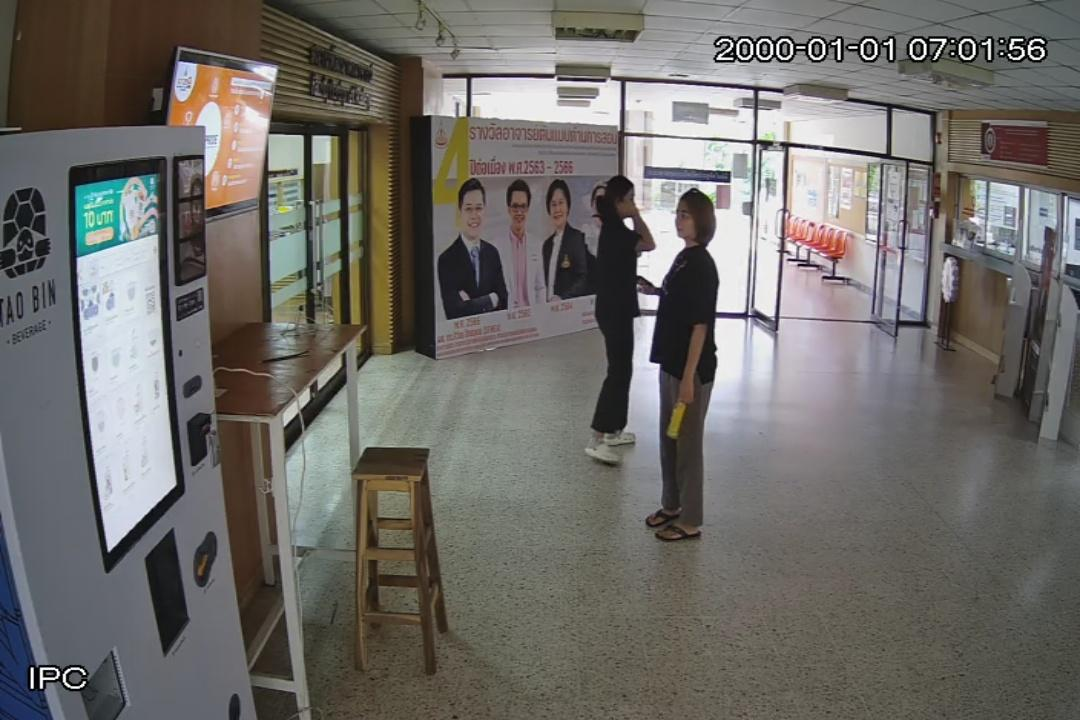normal: (644, 182, 720, 552), (586, 170, 656, 480)
